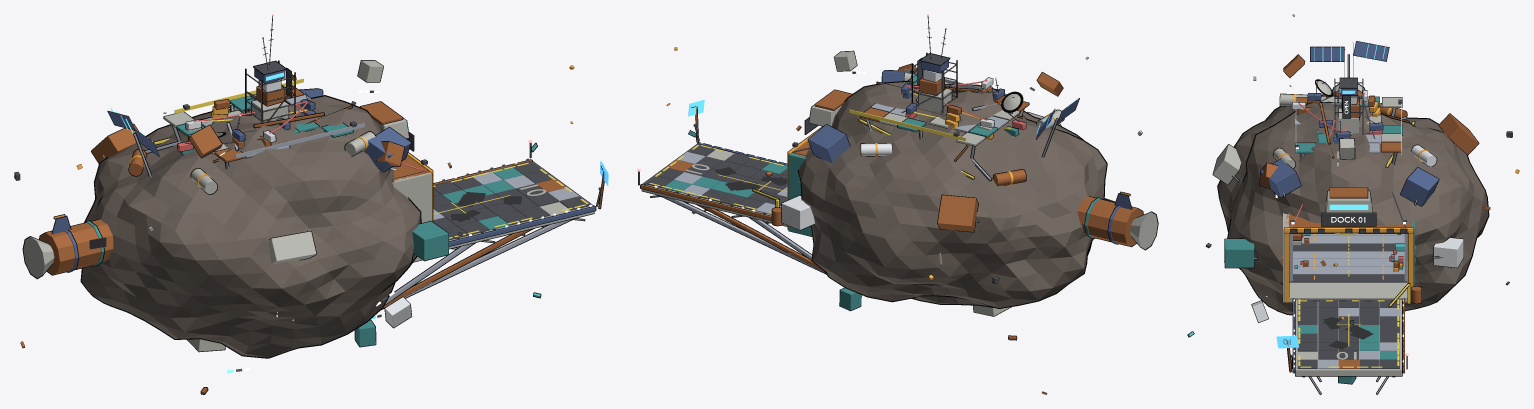
Rendered from Station_Hideout.fbx.
3 renders of one model, left to right at view 1: azimuth 30°, elevation 25°; view 2: azimuth 150°, elevation 25°; view 3: azimuth 270°, elevation 25°, orthographic. The views are drawn at different scales.
Parts seen in each view (by area): view 1: Rock_Asteroid, Pad_Tiles, Hulk_Body, Deck_Plates, Collar_Tunnel, Block_2, Block_6, Pad_Slab, Truss_-12, Hulk_Nose, Truss_-11, Block_0 (+10 smaller); view 2: Rock_Asteroid, Pad_Tiles, Hulk_Body, Deck_Plates, Block_3, Block_1, Pad_Slab, Block_7, Truss_12, Collar_Tunnel, Hulk_Nose, Truss_11 (+5 smaller); view 3: Rock_Asteroid, Pad_Tiles, Hangar_Lining, Collar_Tunnel, Deck_Plates, Pad_Slab, Collar_Frame, Block_1, Block_6, Block_3, Block_0, Sign_Board (+13 smaller).
Part boxes in pixels (x1,y1,x2,y2): Rock_Asteroid: (80, 95, 421, 358); Pad_Tiles: (433, 161, 590, 240); Hulk_Body: (39, 219, 113, 275); Deck_Plates: (163, 85, 353, 162); Collar_Tunnel: (392, 156, 432, 262); Block_2: (268, 231, 316, 264); Block_6: (412, 221, 448, 261); Pad_Slab: (435, 161, 594, 249); Truss_-12: (381, 219, 574, 309); Hulk_Nose: (22, 236, 54, 279); Truss_-11: (382, 229, 533, 308); Block_0: (363, 127, 411, 172); Rock_Asteroid: (797, 80, 1107, 308); Pad_Tiles: (645, 144, 787, 214); Hulk_Body: (1077, 196, 1143, 247); Deck_Plates: (859, 75, 1029, 146); Block_3: (937, 194, 978, 232); Block_1: (807, 124, 850, 162); Pad_Slab: (641, 143, 787, 226); Block_7: (781, 195, 814, 230); Truss_12: (659, 195, 826, 274); Collar_Tunnel: (788, 141, 812, 236); Hulk_Nose: (1130, 211, 1158, 250); Truss_11: (697, 205, 824, 272); Rock_Asteroid: (1217, 94, 1489, 315); Pad_Tiles: (1297, 299, 1399, 368); Hangar_Lining: (1289, 234, 1407, 282); Collar_Tunnel: (1282, 213, 1414, 302); Deck_Plates: (1294, 96, 1402, 153); Pad_Slab: (1295, 299, 1402, 376); Collar_Frame: (1284, 227, 1413, 302); Block_1: (1400, 167, 1439, 206); Block_6: (1224, 238, 1254, 268); Block_3: (1438, 113, 1479, 155); Block_0: (1260, 158, 1301, 197); Sign_Board: (1321, 212, 1376, 226).
Bounding box in the file's own units: 251 × 156 × 155.
